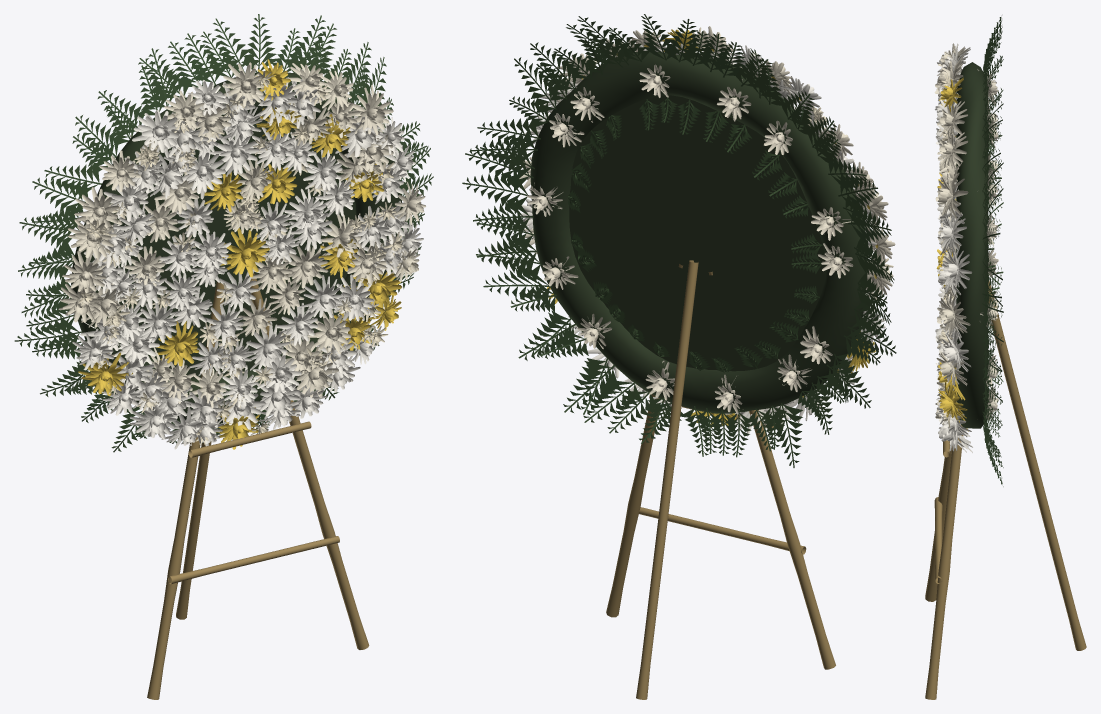
The model's file is VongHoaDay_HQ.glb.
The picture shows the model from 3 angles, left to right: view 1: azimuth 30°, elevation 25°; view 2: azimuth 150°, elevation 25°; view 3: azimuth 270°, elevation 25°; orthographic projection. The views are drawn at different scales.
Parts seen in each view (by area): view 1: VongHoaTang_1_HQ; view 2: VongHoaTang_1_HQ; view 3: VongHoaTang_1_HQ.
Boxes of the visible parts, box(x1,y1,x2,y2) form: VongHoaTang_1_HQ: box(14, 14, 433, 699); VongHoaTang_1_HQ: box(462, 14, 896, 699); VongHoaTang_1_HQ: box(925, 17, 1086, 699).
Size of what is drawn, in the model's own units: 1.2 by 1.72 by 0.4079.
